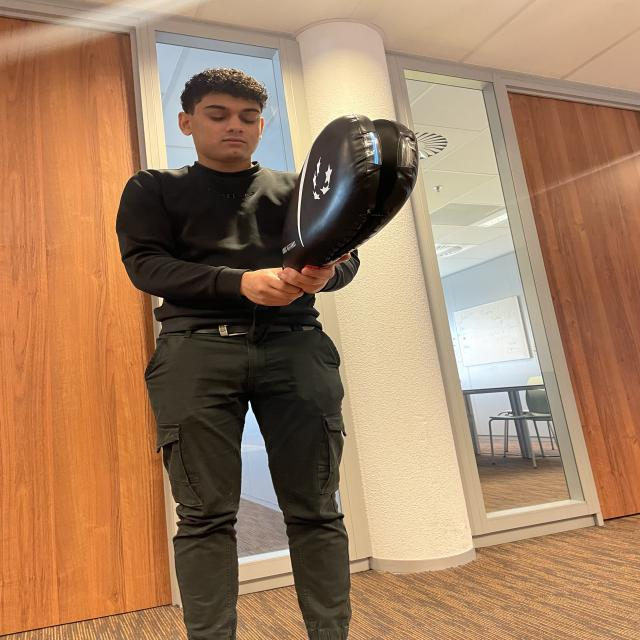paddle: (297, 114, 418, 256)
trigger: (363, 128, 385, 166)
